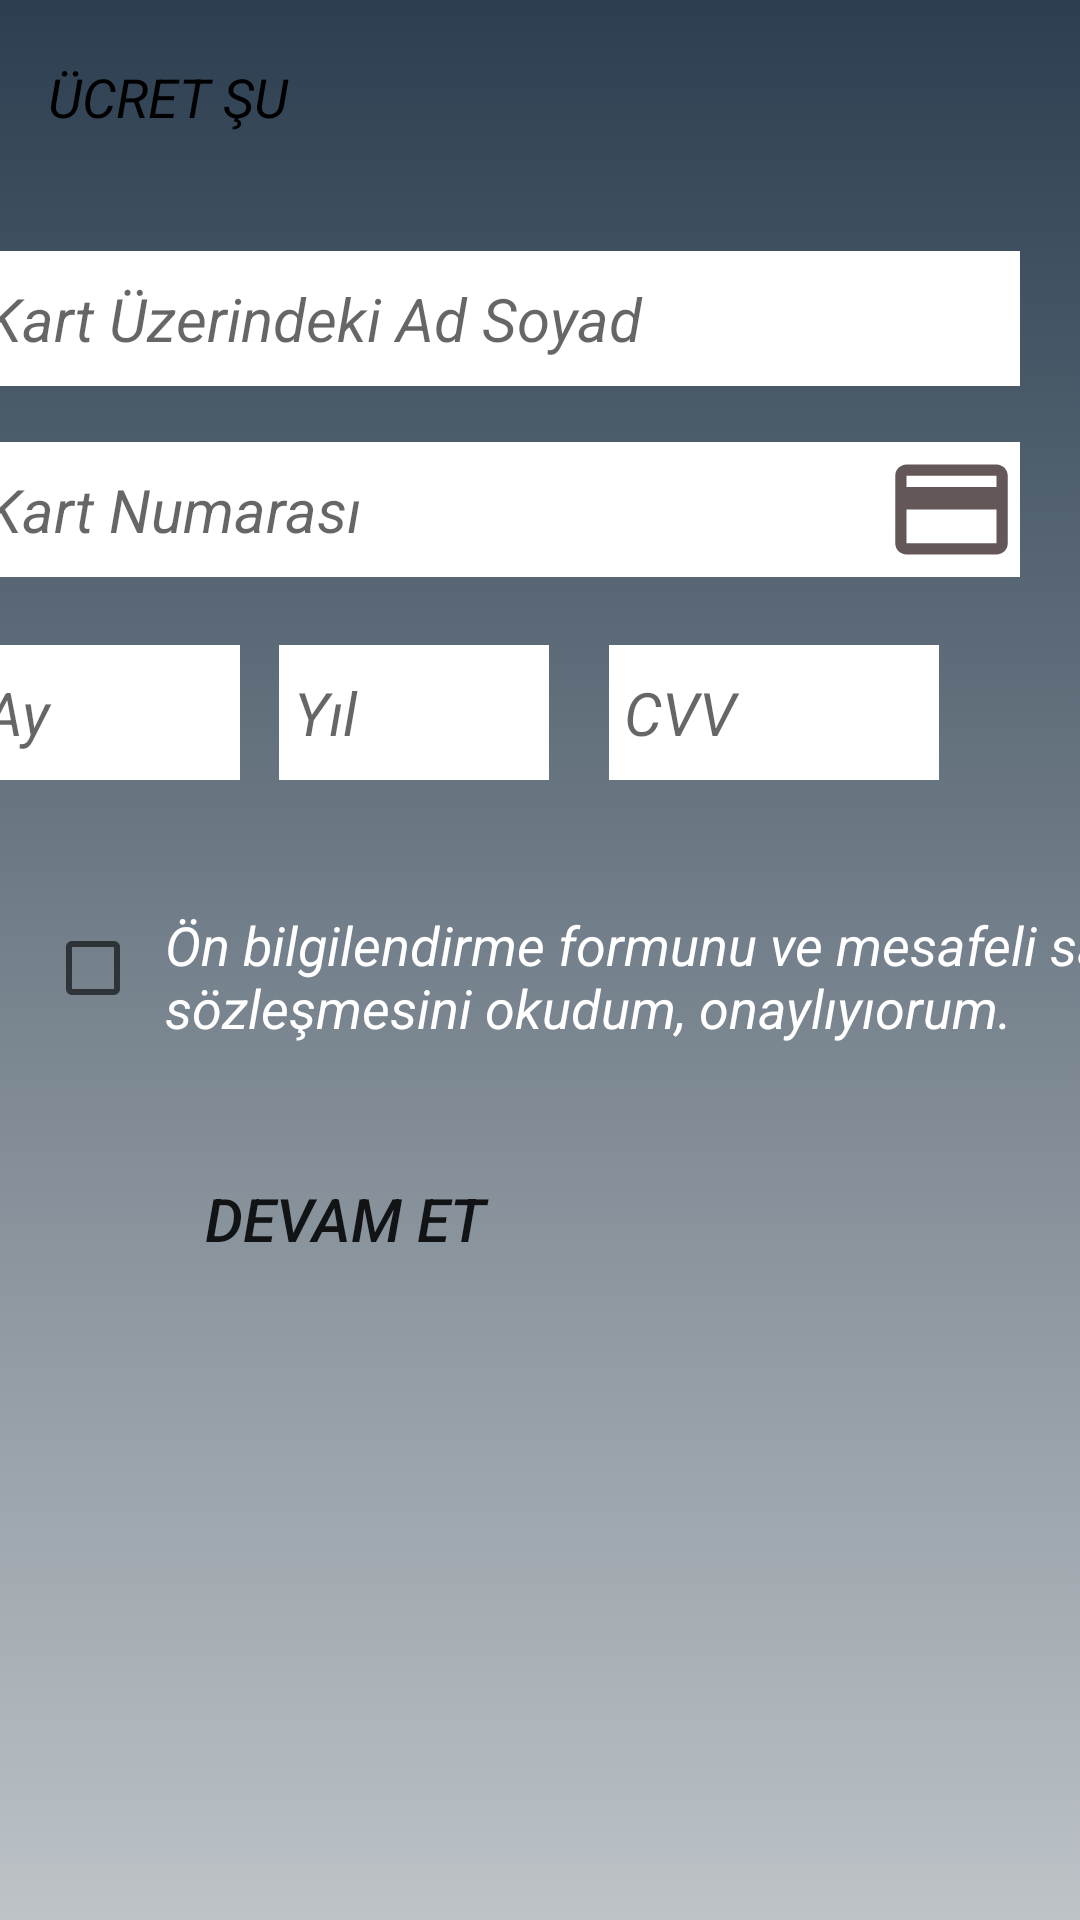

Icons on this 1080x1920 Android screen, each with its box as (x1, y1, x2, y2):
credit card: (895, 464, 1008, 555)
